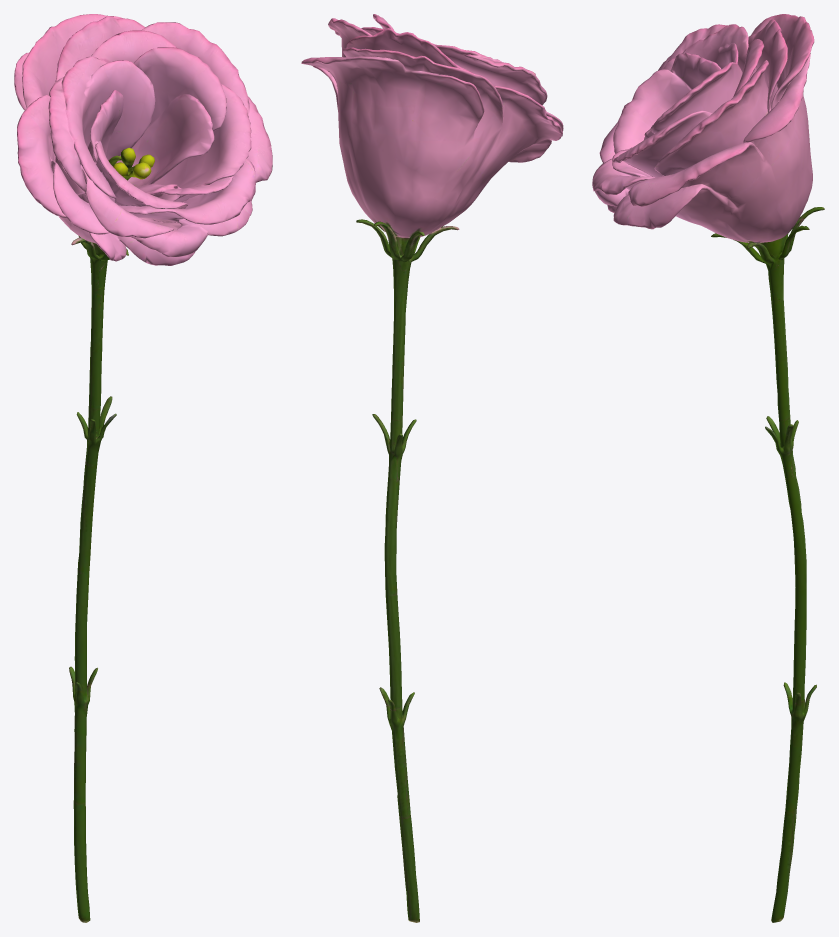
File: pink.glb
3 views of the same model, side by side, from view 1: azimuth 30°, elevation 25°; view 2: azimuth 150°, elevation 25°; view 3: azimuth 270°, elevation 25° (orthographic).
Bounding box in the file's own units: 0.5283 × 1.9 × 0.4435.
Materials: 1 (1 with a texture image).
